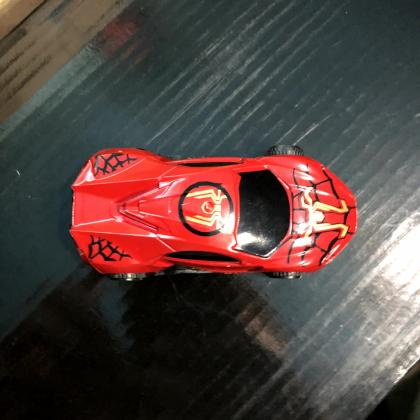Car: (69, 148, 359, 279)
